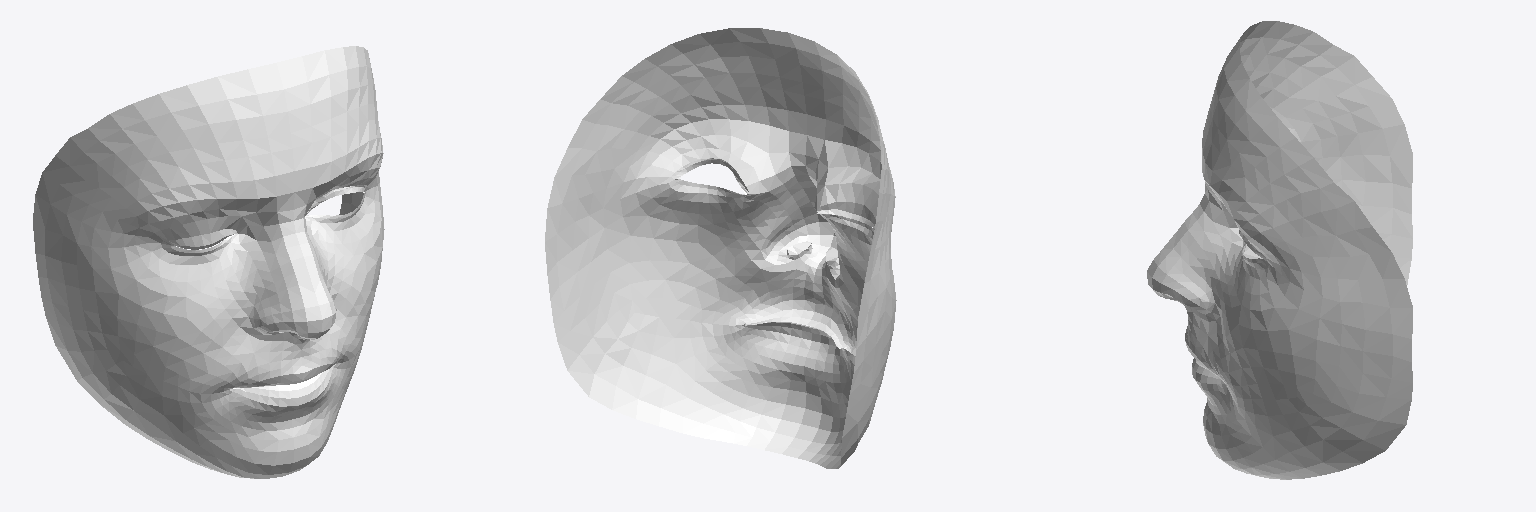
File: eyeBlink_R.obj
The picture shows the model from 3 angles: view 1: azimuth 30°, elevation 25°; view 2: azimuth 150°, elevation 25°; view 3: azimuth 270°, elevation 25°; orthographic projection.
Visible parts, largest first — view 1: default; view 2: default; view 3: default.
Part boxes in pixels (bbox=[...]): default: bbox=[33, 46, 384, 478]; default: bbox=[545, 28, 896, 468]; default: bbox=[1147, 21, 1412, 479].
Size of the model in its own units: 0.1447 by 0.182 by 0.1055.